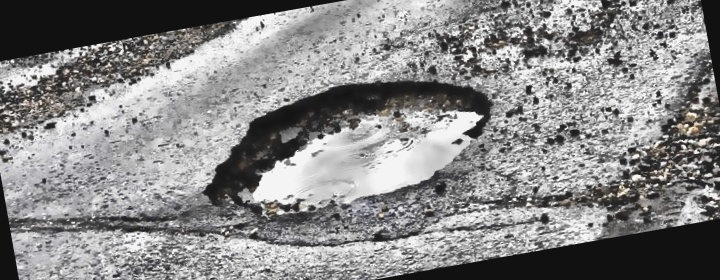pothole: (183, 54, 512, 230)
